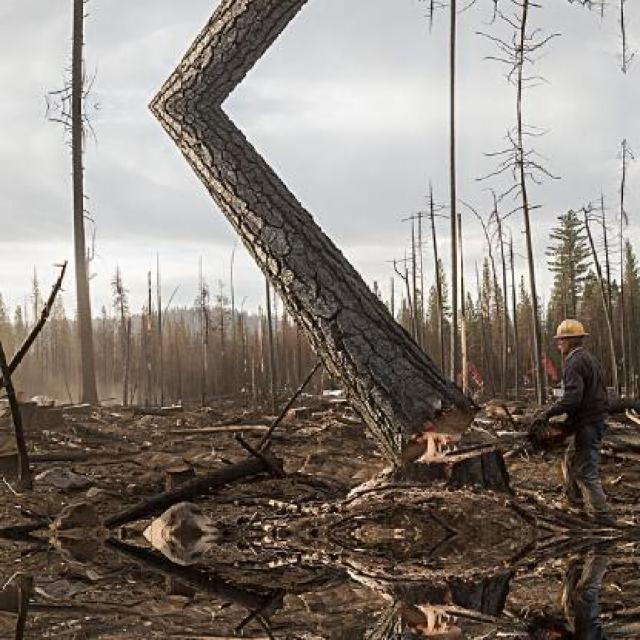hat: (551, 318, 594, 349)
